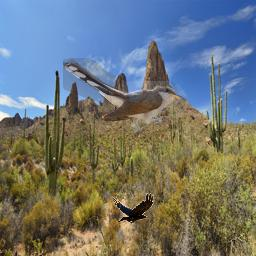Crow: (110, 193, 154, 224)
Cuckoo: (63, 58, 187, 137)
